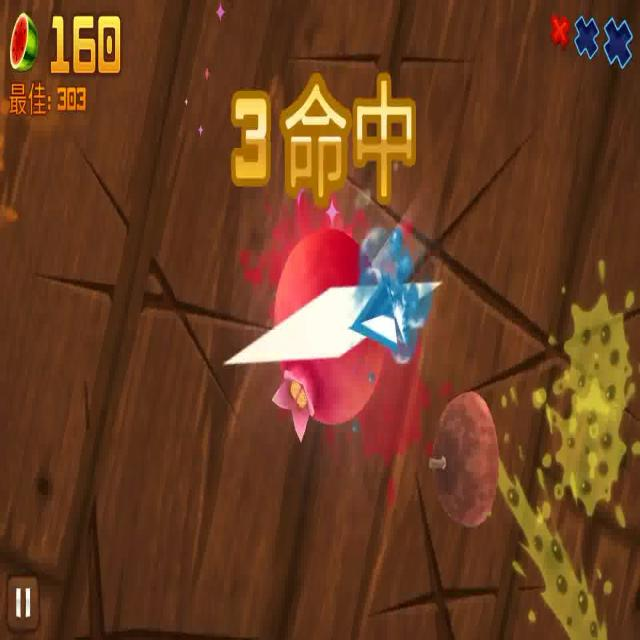fruit: (276, 228, 388, 425), (433, 391, 499, 528)
